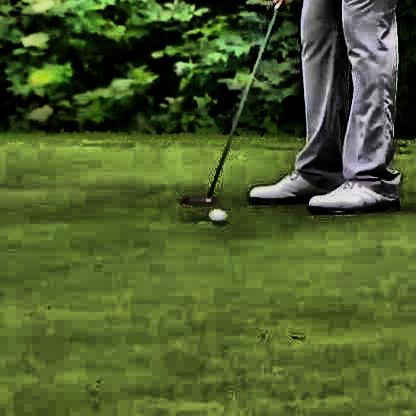golfball: (206, 206, 224, 223)
